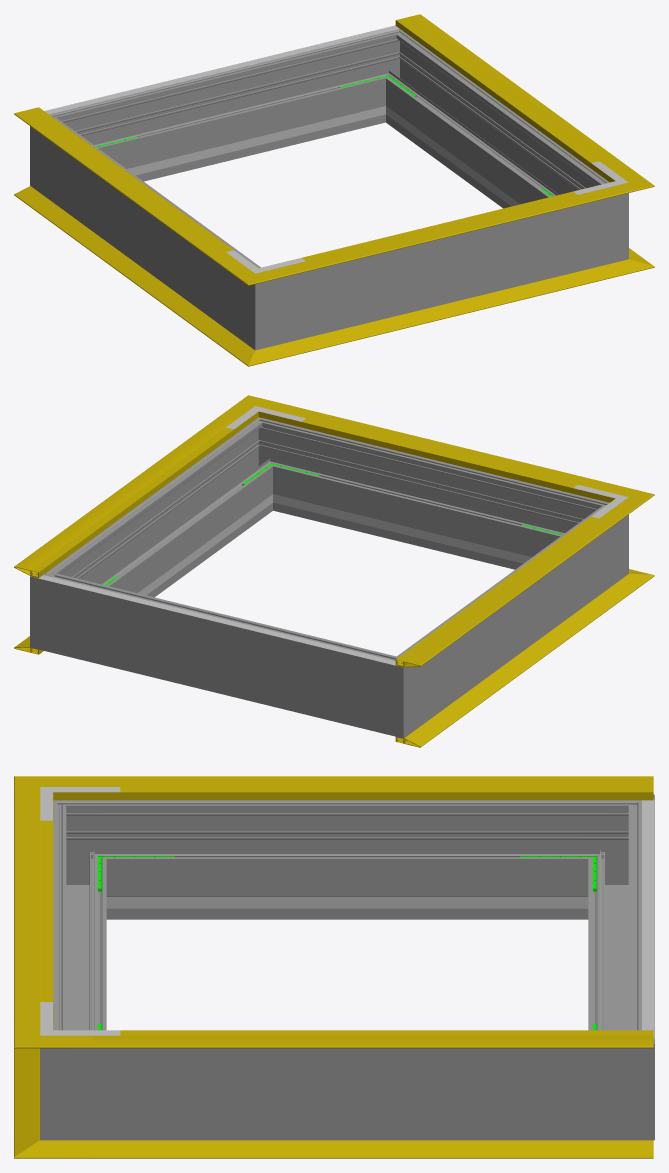
3 renders of one model, top to bottom at view 1: azimuth 30°, elevation 25°; view 2: azimuth 150°, elevation 25°; view 3: azimuth 270°, elevation 25°, orthographic. The views are drawn at different scales.
Visible parts, largest first — view 1: 3DGeom-277, 3DGeom-299, 3DGeom-298, 3DGeom-269, 3DGeom-271, 3DGeom-145, 3DGeom-28, 3DGeom-38, 3DGeom-147, 3DGeom-291, 3DGeom-285, 3DGeom-141 (+12 smaller); view 2: 3DGeom-299, 3DGeom-277, 3DGeom-298, 3DGeom-269, 3DGeom-279, 3DGeom-141, 3DGeom-145, 3DGeom-38, 3DGeom-285, 3DGeom-147, 3DGeom-291, 3DGeom-271 (+10 smaller); view 3: 3DGeom-269, 3DGeom-298, 3DGeom-147, 3DGeom-30, 3DGeom-277, 3DGeom-299, 3DGeom-145, 3DGeom-285, 3DGeom-291, 3DGeom-279, 3DGeom-141, 3DGeom-271 (+13 smaller).
Boxes of the visible parts, x1,y1,x2,y2 form: 3DGeom-277: (85, 39, 377, 181); 3DGeom-299: (306, 205, 578, 337); 3DGeom-298: (390, 47, 591, 208); 3DGeom-269: (59, 132, 242, 328); 3DGeom-271: (226, 254, 305, 350); 3DGeom-145: (395, 14, 624, 175); 3DGeom-28: (290, 267, 603, 354); 3DGeom-38: (14, 186, 234, 344); 3DGeom-147: (14, 108, 235, 263); 3DGeom-291: (578, 169, 628, 271); 3DGeom-285: (357, 29, 424, 125); 3DGeom-141: (290, 191, 603, 273); 3DGeom-299: (281, 427, 573, 569); 3DGeom-277: (80, 582, 362, 725); 3DGeom-298: (67, 435, 268, 597); 3DGeom-269: (417, 520, 599, 716); 3DGeom-279: (353, 642, 432, 738); 3DGeom-141: (284, 407, 603, 497); 3DGeom-145: (14, 416, 243, 577); 3DGeom-38: (395, 588, 625, 747); 3DGeom-285: (30, 557, 89, 659); 3DGeom-147: (395, 510, 625, 667); 3DGeom-291: (234, 417, 301, 513); 3DGeom-271: (553, 494, 628, 594); 3DGeom-269: (120, 800, 574, 919); 3DGeom-298: (120, 1048, 574, 1140); 3DGeom-147: (94, 776, 653, 800); 3DGeom-30: (94, 1140, 653, 1158); 3DGeom-277: (588, 828, 654, 1030); 3DGeom-299: (53, 828, 106, 1030); 3DGeom-145: (94, 1035, 653, 1048); 3DGeom-285: (575, 1009, 654, 1140); 3DGeom-291: (40, 1009, 119, 1140); 3DGeom-279: (575, 794, 654, 919); 3DGeom-141: (14, 809, 53, 1012); 3DGeom-271: (53, 800, 119, 919).
Size of the model in its own units: 1.22 by 0.2357 by 1.22.
